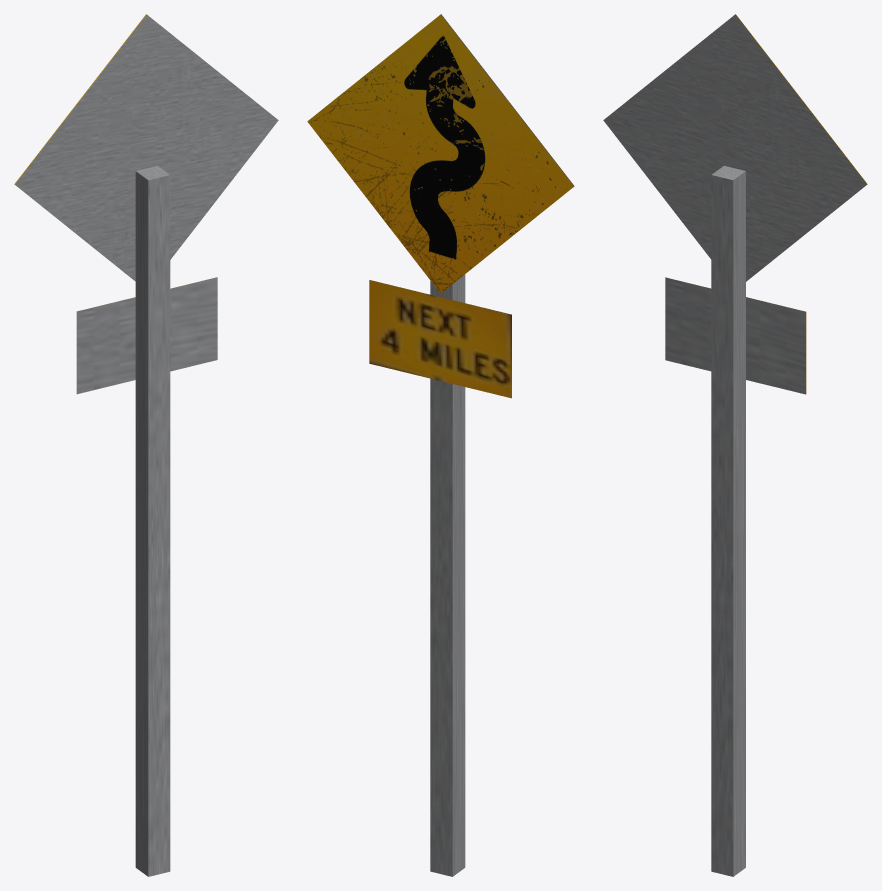
The model's file is WindyRoadSign.fbx.
The picture shows the model from 3 angles, left to right: view 1: azimuth 30°, elevation 25°; view 2: azimuth 150°, elevation 25°; view 3: azimuth 330°, elevation 25°; orthographic projection.
Parts seen in each view (by area): view 1: pasted__pPlane3, pCube9, pPlane4; view 2: pPlane3, pCube9, pasted__pPlane4; view 3: pasted__pPlane3, pCube9, pPlane4.
Boxes of the visible parts, <box> form: pasted__pPlane3: <box>15,14,278,281</box>; pCube9: <box>135,166,170,876</box>; pPlane4: <box>76,277,217,394</box>; pPlane3: <box>307,14,573,293</box>; pCube9: <box>430,274,465,876</box>; pasted__pPlane4: <box>369,280,511,398</box>; pasted__pPlane3: <box>603,14,866,281</box>; pCube9: <box>711,165,745,876</box>; pPlane4: <box>665,277,805,394</box>.
Bounding box in the file's own units: 4.51 × 13.88 × 0.3923.
